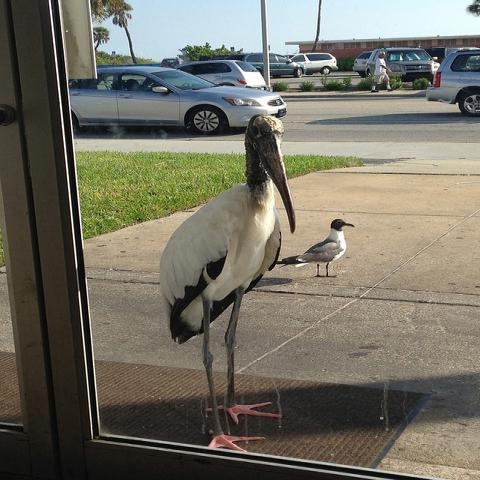car: (68, 66, 288, 137), (426, 50, 479, 118), (178, 59, 269, 91), (365, 46, 440, 82), (244, 53, 304, 76), (290, 53, 339, 75), (426, 45, 479, 64), (351, 49, 373, 78)
